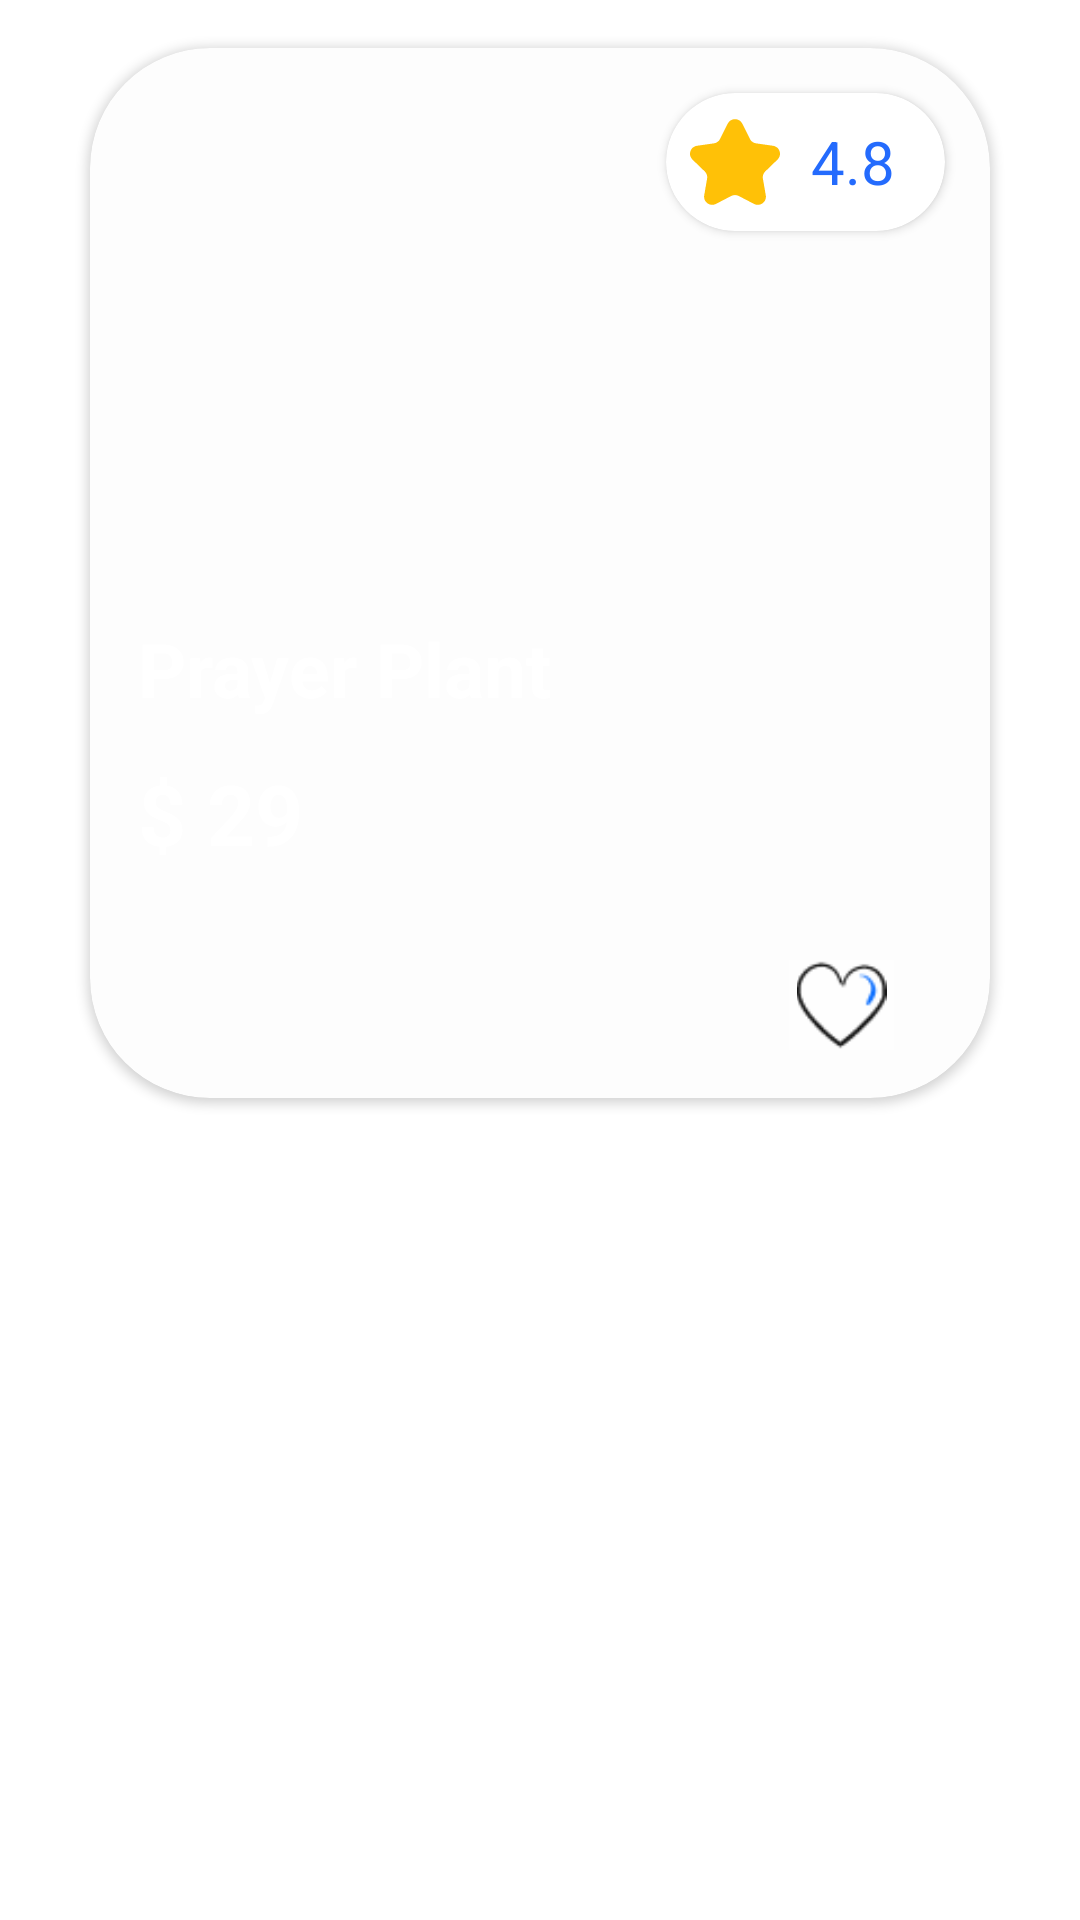

Screen size 1080w x 1920h. Icon name, then its center in pixels as point (x, y):
heart org: point (842, 1005)
star: point (735, 162)
